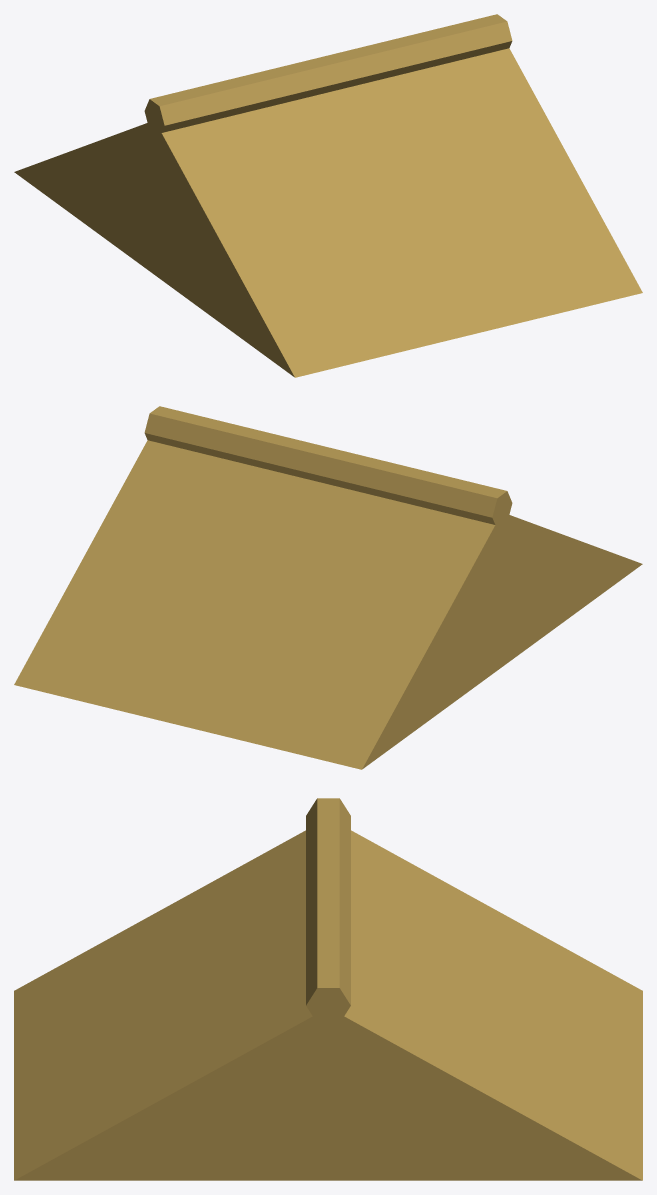
The model's file is hanok_choga_roof_straight.glb.
3 renders of one model, top to bottom at view 1: azimuth 30°, elevation 25°; view 2: azimuth 150°, elevation 25°; view 3: azimuth 270°, elevation 25°, orthographic. The views are drawn at different scales.
Visible parts, largest first — view 1: hanok_choga_roof_straight; view 2: hanok_choga_roof_straight; view 3: hanok_choga_roof_straight.
Boxes of the visible parts, x1,y1,x2,y2 form: hanok_choga_roof_straight: (14,14,642,377); hanok_choga_roof_straight: (14,406,642,769); hanok_choga_roof_straight: (14,798,642,1180).
Bounding box in the file's own units: 4 × 1.89 × 5.6.
